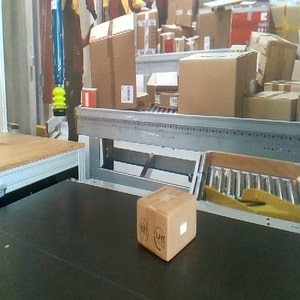box: (136, 184, 198, 263)
